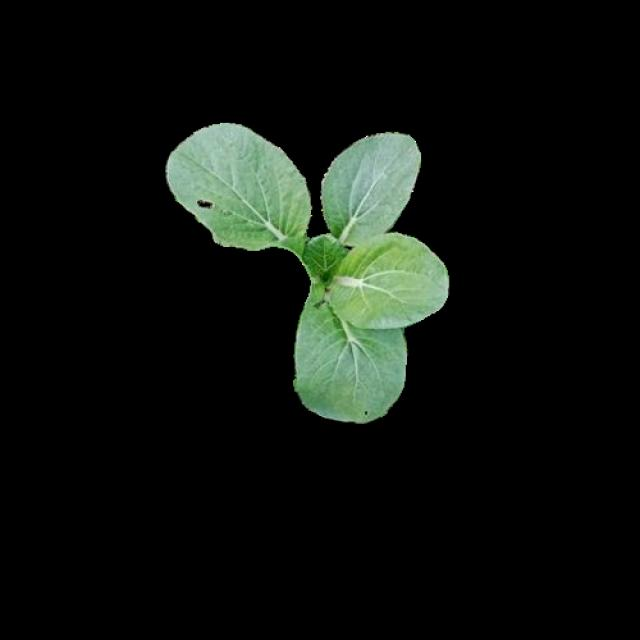not-mature: (162, 122, 450, 426)
unhealthy: (164, 120, 311, 252)
